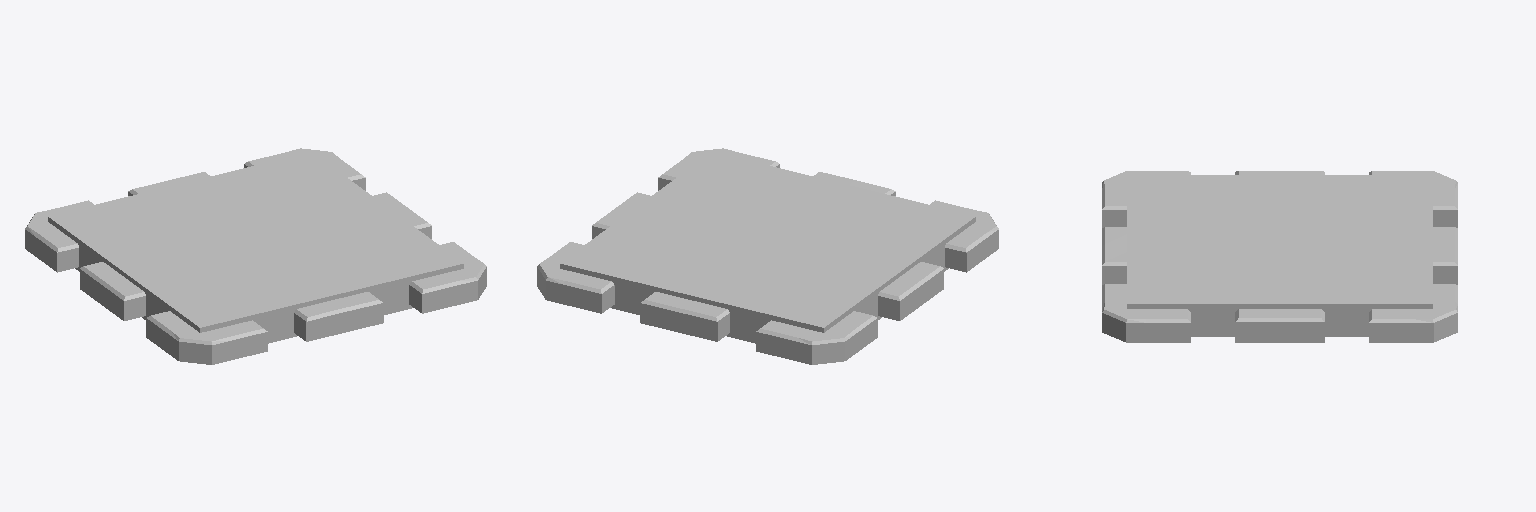
File: tresh (Last Lvl).obj
The picture shows the model from 3 angles: view 1: azimuth 30°, elevation 25°; view 2: azimuth 150°, elevation 25°; view 3: azimuth 270°, elevation 25°; orthographic projection.
Visible parts, largest first — view 1: tresh (Last Lvl); view 2: tresh (Last Lvl); view 3: tresh (Last Lvl).
Boxes of the visible parts, x1,y1,x2,y2 form: tresh (Last Lvl): [25, 148, 486, 364]; tresh (Last Lvl): [537, 148, 998, 364]; tresh (Last Lvl): [1102, 171, 1457, 342].
Bounding box in the file's own units: 3.5 × 0.35 × 3.5.